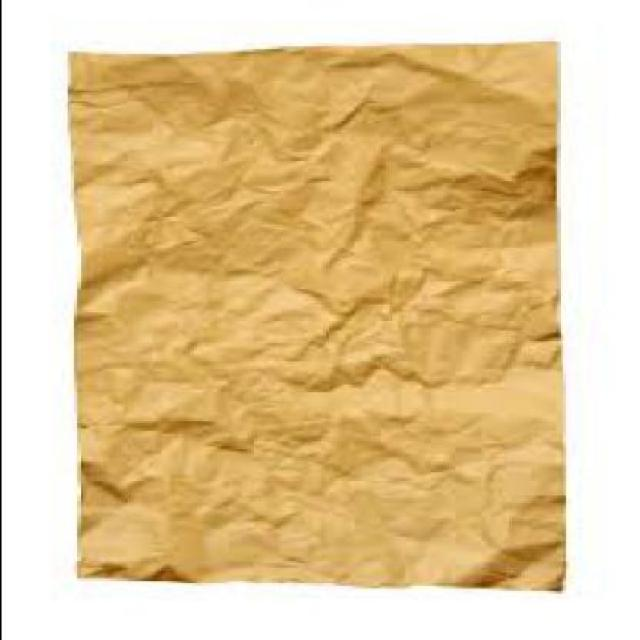PAPER: (57, 44, 558, 596)
